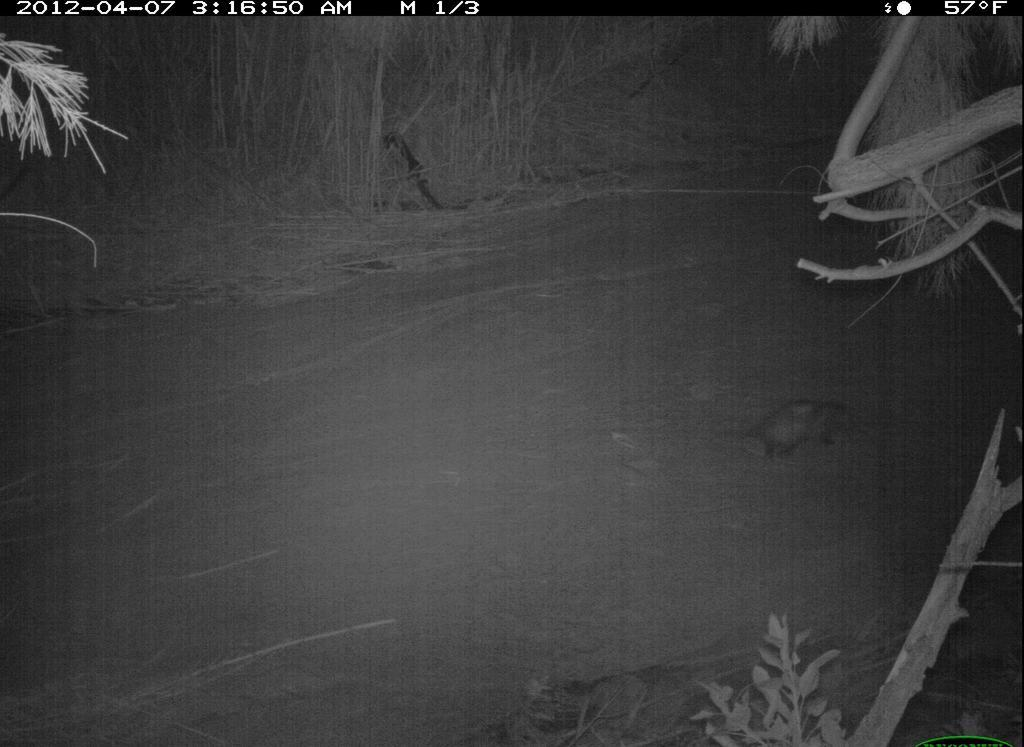opossum: (733, 390, 867, 470)
